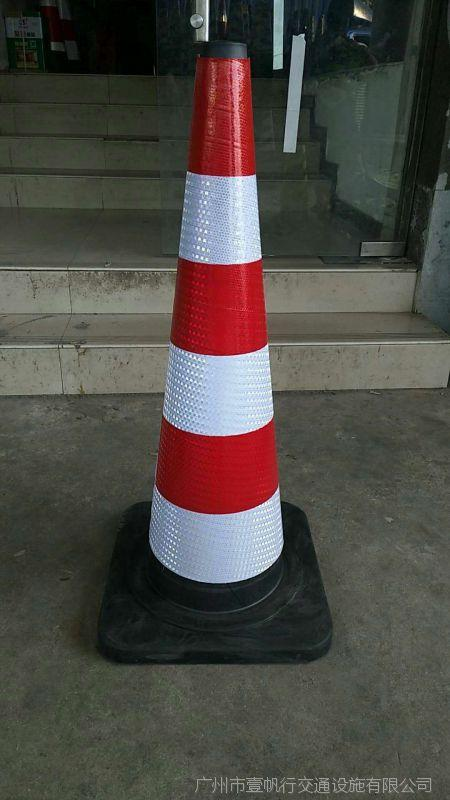traffic_cone: (28, 36, 377, 674)
